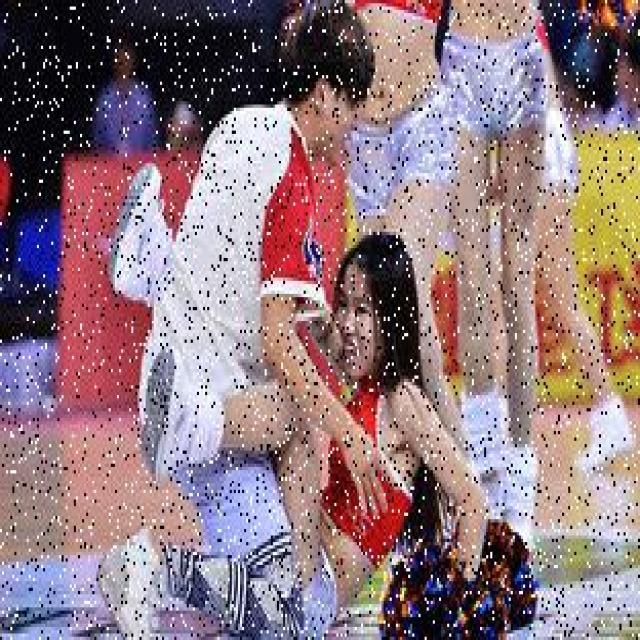fall: (260, 255, 462, 598)
